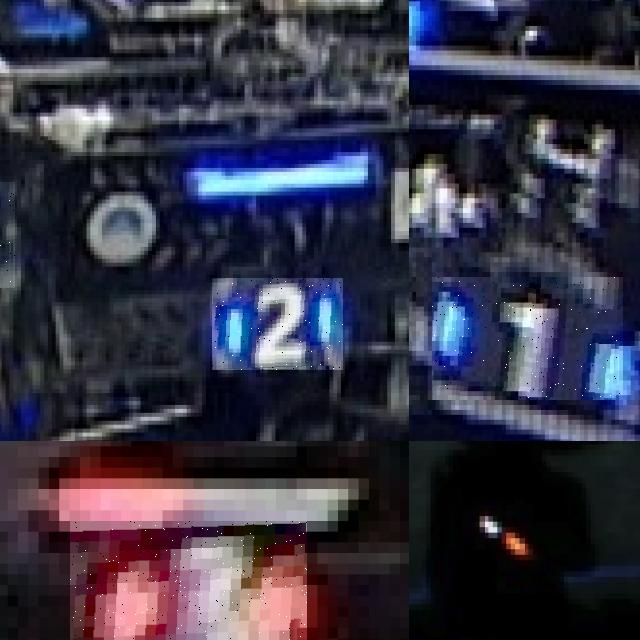B1: (432, 277, 623, 400)
B2: (212, 278, 343, 370)
R3: (69, 521, 307, 640)
